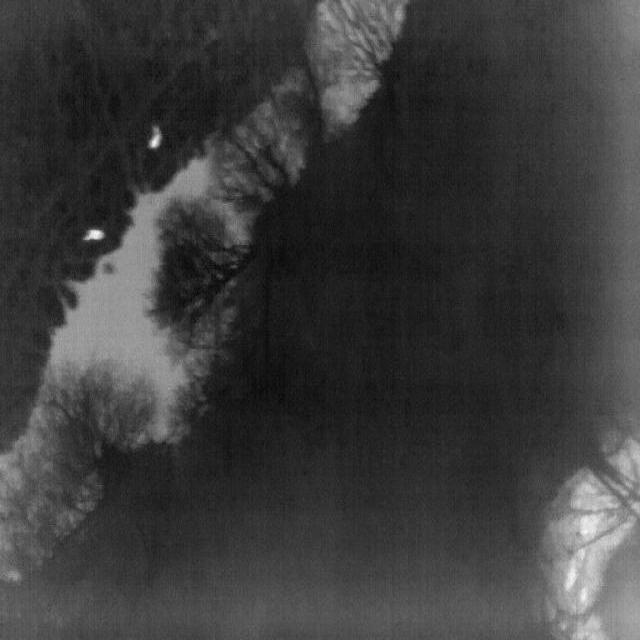deer: (146, 126, 164, 151), (82, 228, 106, 242)
